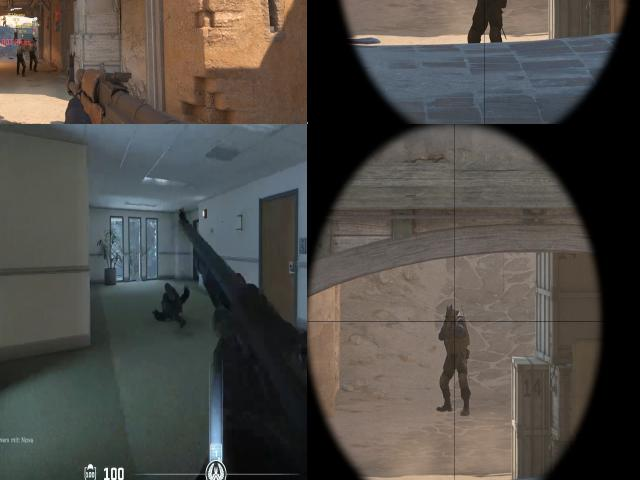CT: (444, 308, 468, 412), (469, 0, 505, 43), (3, 16, 6, 27)
CT-Head: (446, 309, 455, 325), (3, 15, 5, 18)
Dead: (152, 282, 192, 326)
T: (16, 39, 26, 76), (30, 36, 38, 72), (14, 25, 18, 42)
T-Head: (20, 40, 25, 46), (32, 36, 35, 42)
